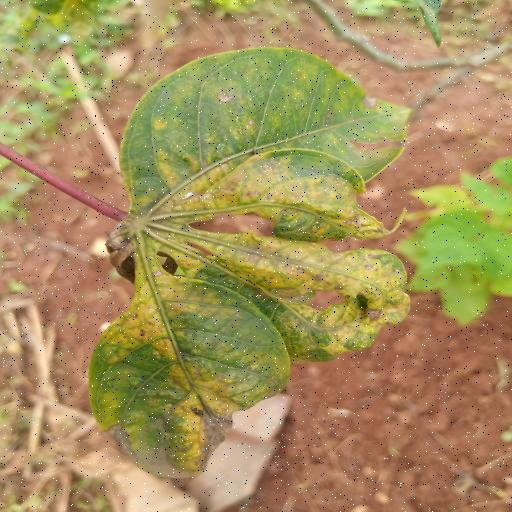Cassava_Mosaic: (88, 46, 415, 483)
